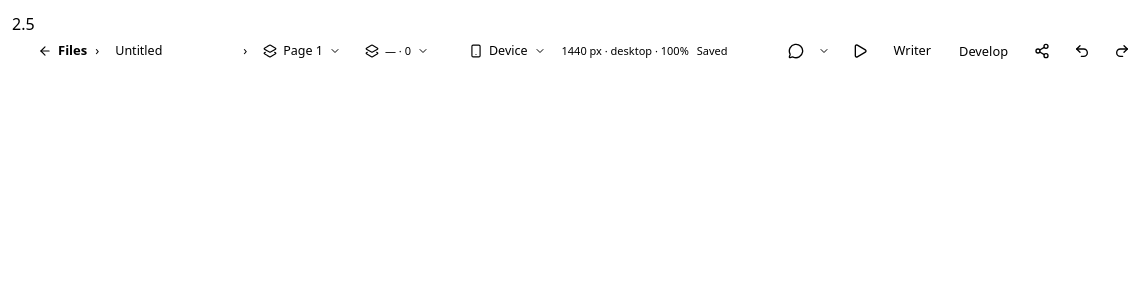
Scenario: Topbar › zoom menu › Zoom to 100% sets the shared viewport to exactly zoom 1
This screenshot has width=1145, height=288.
What coordinates should you click on to do the following:
click the button with test id "stage-readout"
I would click on:
 (625, 51)
Its box is left=562, top=43, right=689, bottom=59.
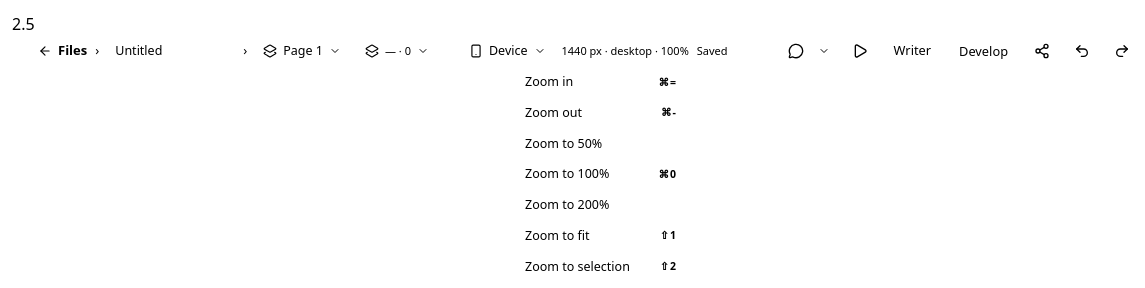
What coordinates should you click on to do the following:
click the menu item named "Zoom to 100%⌘0"
I would click on:
 (601, 174)
Its box is left=525, top=165, right=677, bottom=182.
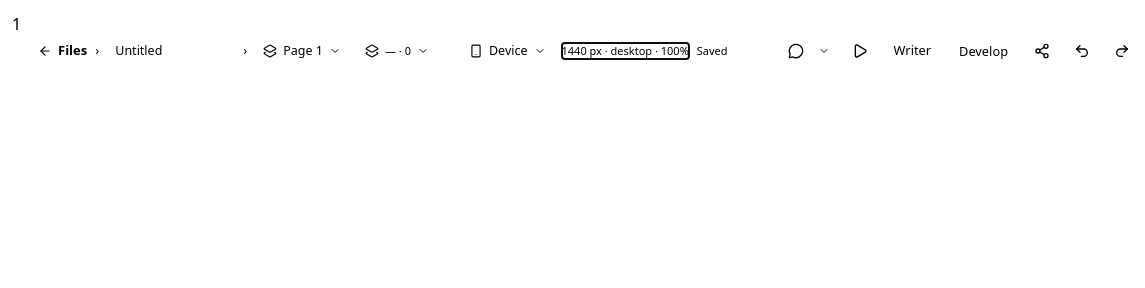
expect the text with test id "viewport-probe" reads "1": met, box left=12, top=13, right=21, bottom=35
